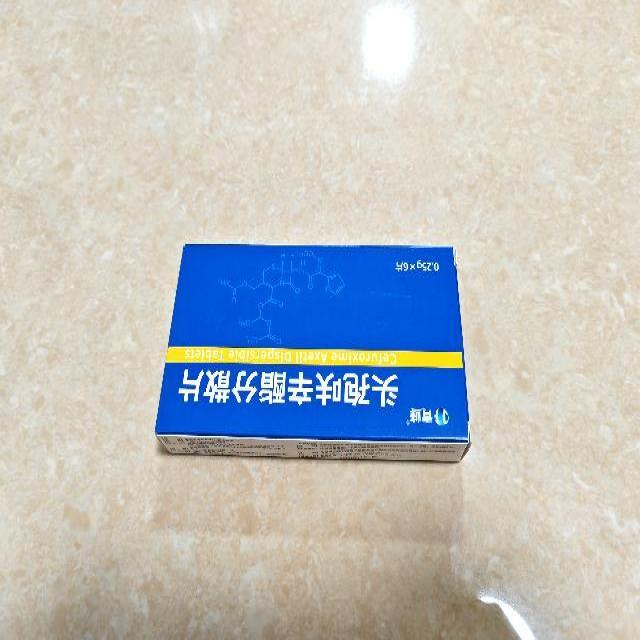box: (154, 243, 470, 464)
